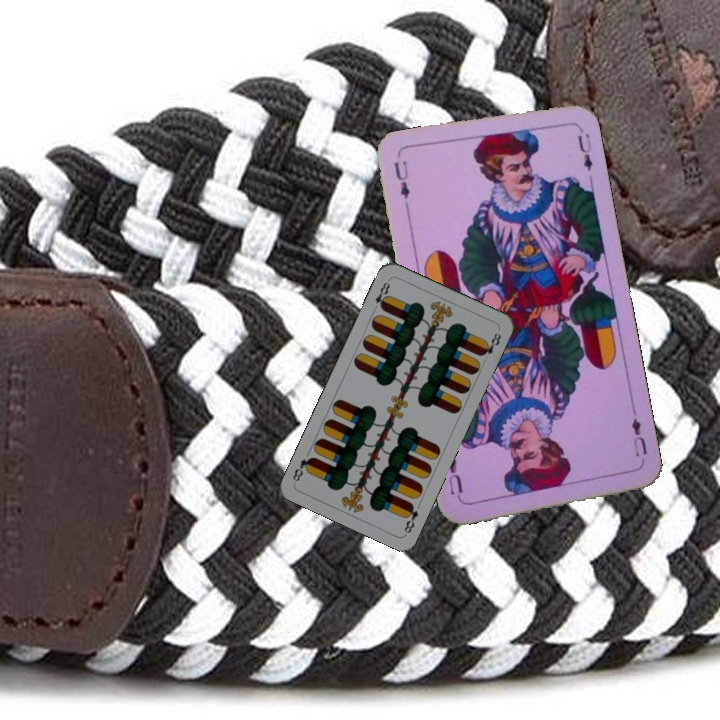E8: (369, 276, 393, 314), (400, 500, 421, 536)
EU: (627, 407, 650, 460), (389, 156, 412, 201)
